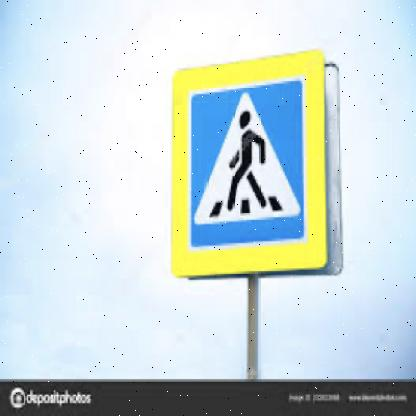Pedestrian Crossing: (196, 86, 304, 236)
